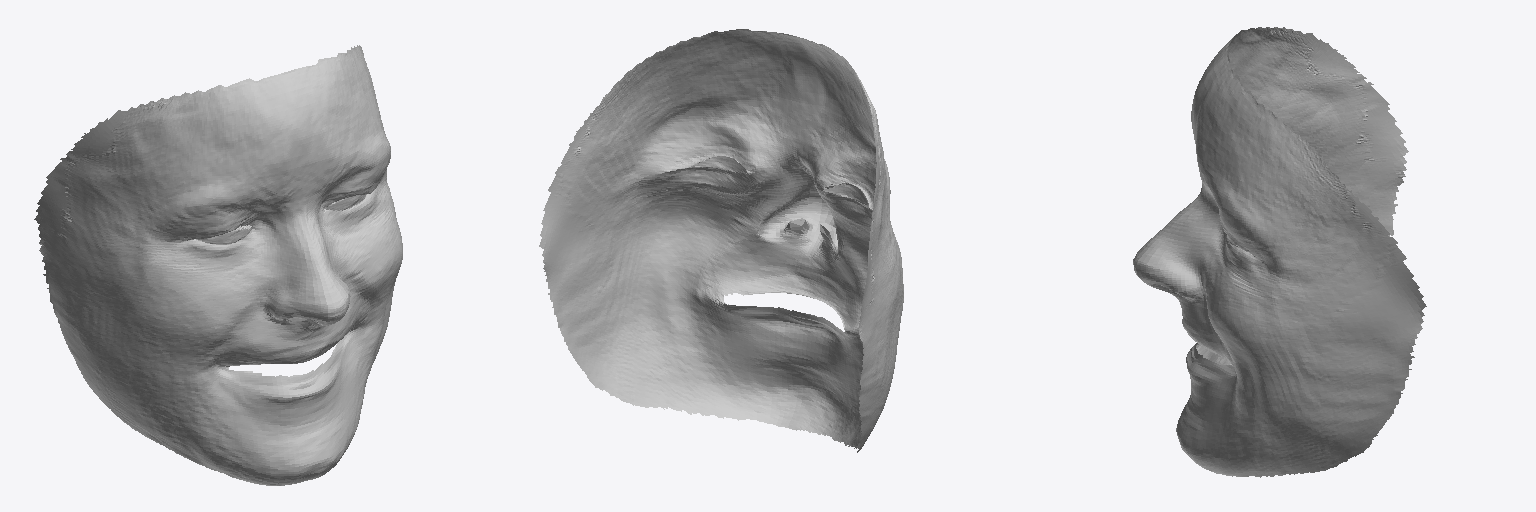
The model's file is test_view_1_0_hrn_high_mesh.obj.
3 views of the same model, side by side, from view 1: azimuth 30°, elevation 25°; view 2: azimuth 150°, elevation 25°; view 3: azimuth 270°, elevation 25° (orthographic).
Bounding box in the file's own units: 1.43 × 1.75 × 1.15.